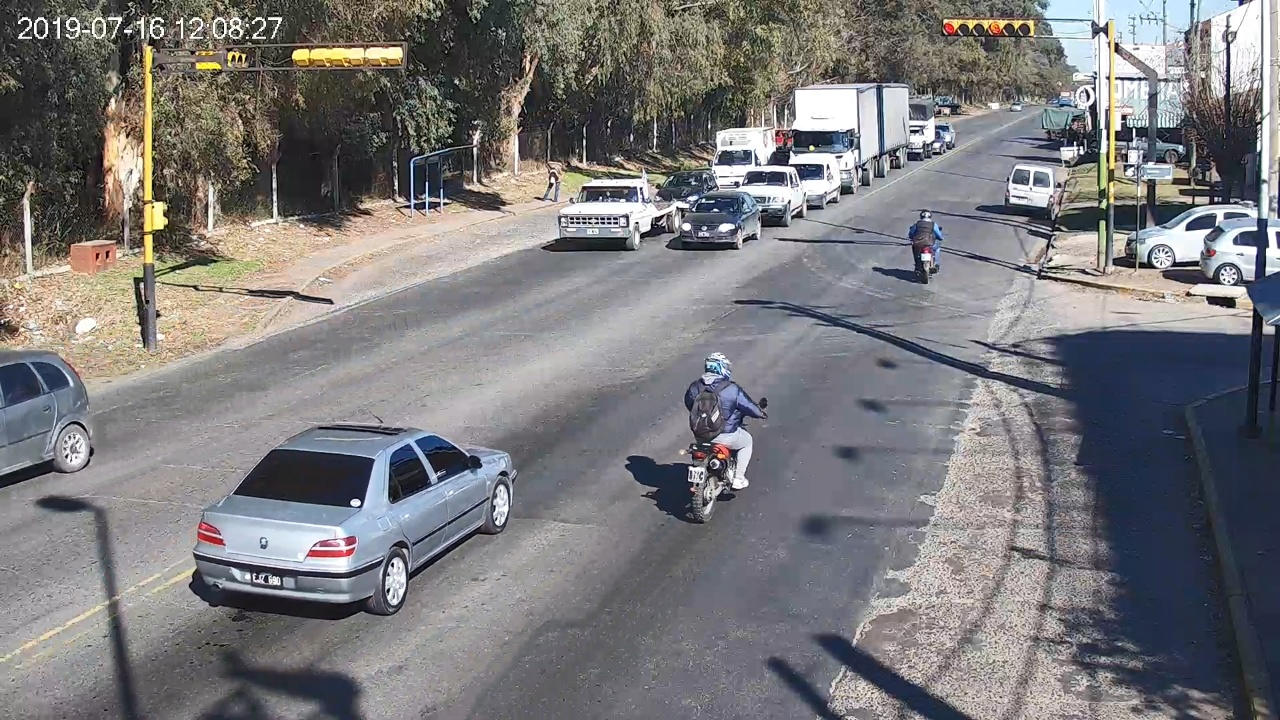car: (192, 422, 518, 615)
front car: (681, 192, 761, 249)
motorcycle: (679, 396, 768, 522), (909, 226, 943, 283)
traffic light: (944, 17, 1034, 37)
